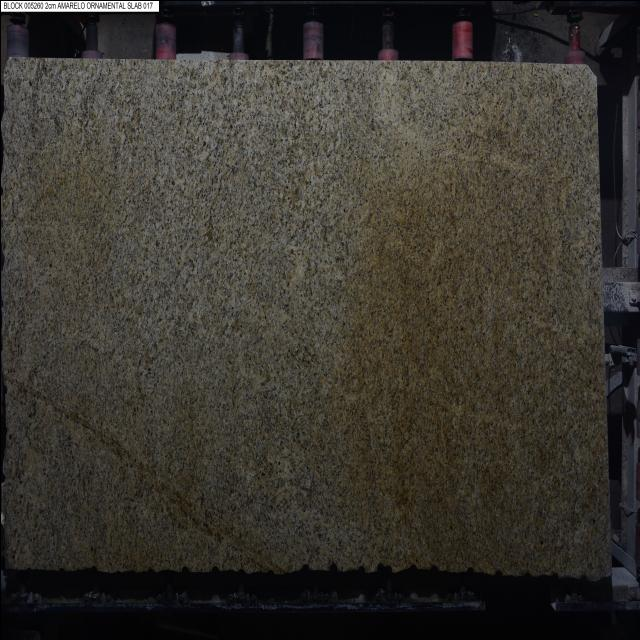chapa: (1, 58, 609, 579)
